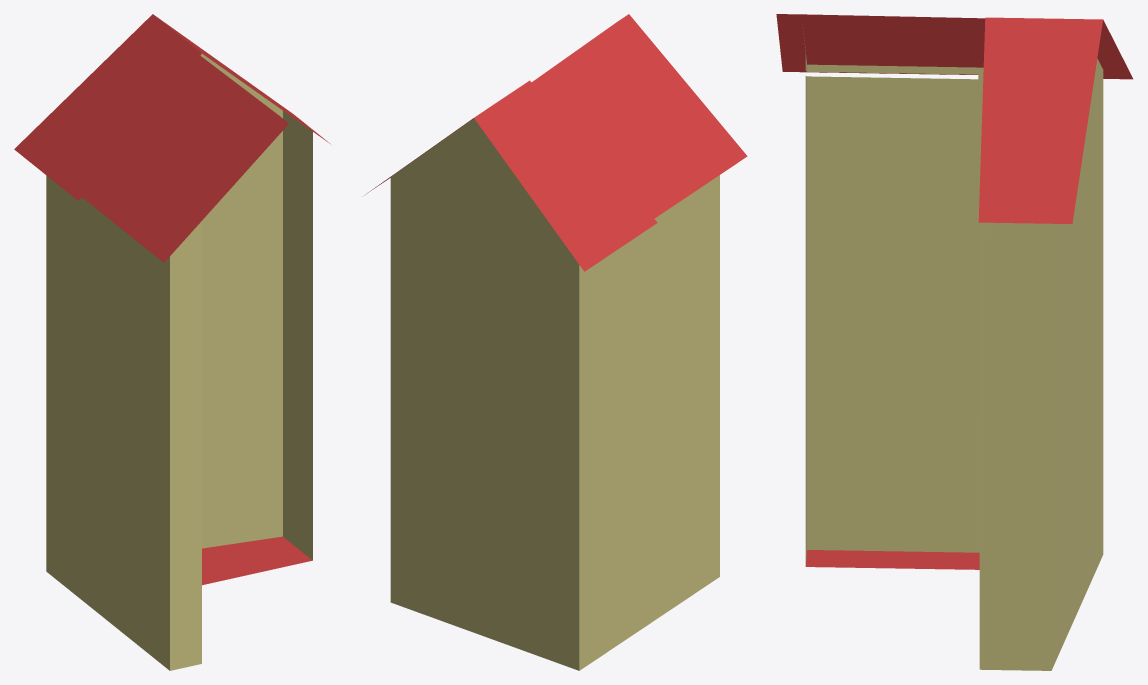
The picture shows the model from 3 angles, left to right: view 1: azimuth 30°, elevation 25°; view 2: azimuth 150°, elevation 25°; view 3: azimuth 270°, elevation 25°; orthographic projection. The views are drawn at different scales.
Size of the model in its own units: 6.6 by 7.04 by 12.91.
